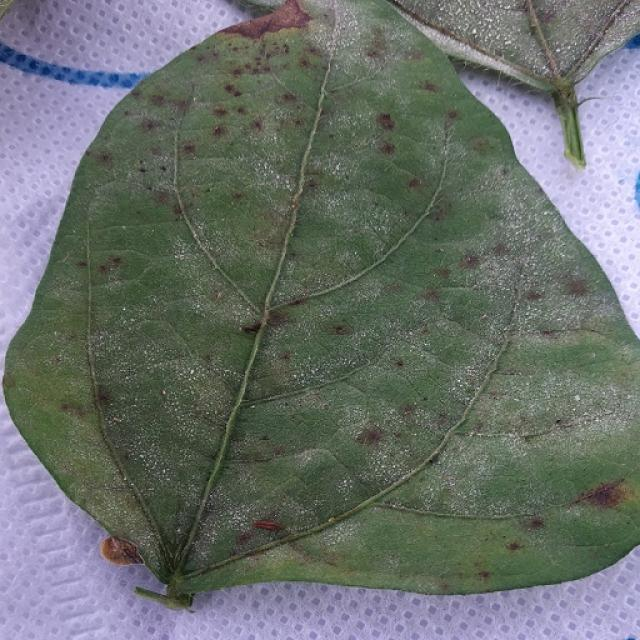Blackgram: (4, 0, 639, 605)
Powdery_Mildew: (90, 261, 239, 525)
